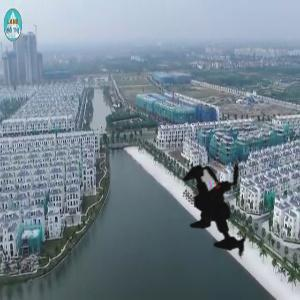drone: (150, 132, 300, 282)
